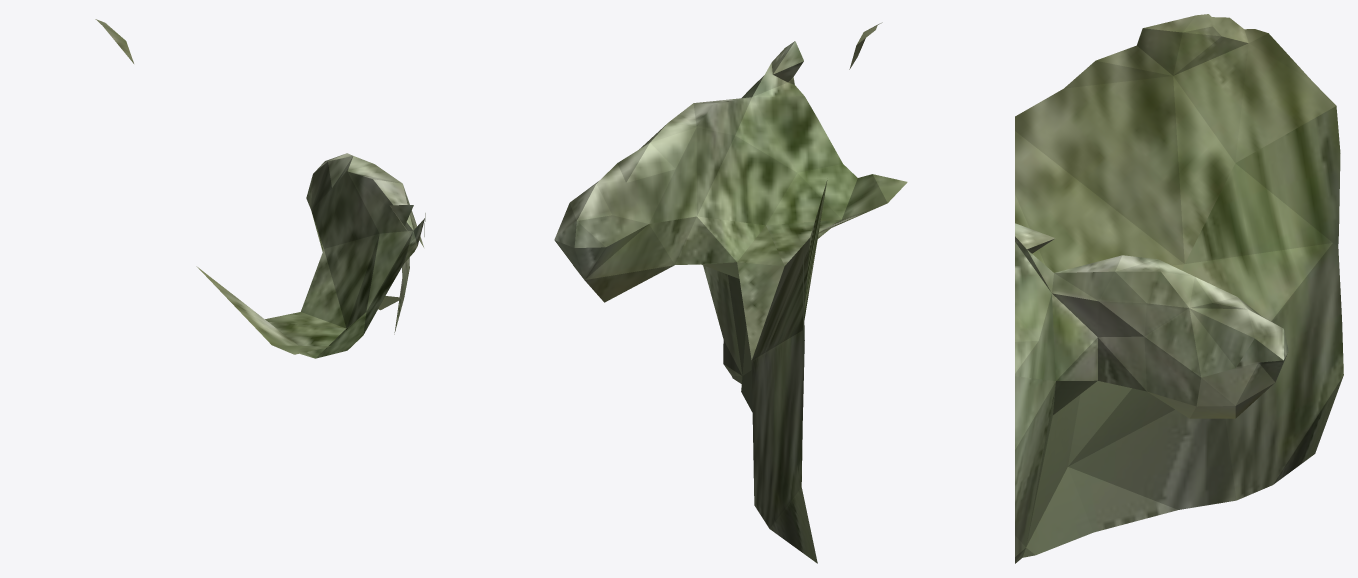
3 views of the same model, side by side, from view 1: azimuth 30°, elevation 25°; view 2: azimuth 150°, elevation 25°; view 3: azimuth 270°, elevation 25° (orthographic). The views are drawn at different scales.
Bounding box in the file's own units: 1.02 × 1.63 × 1.11.
1 material, 1 textured.
